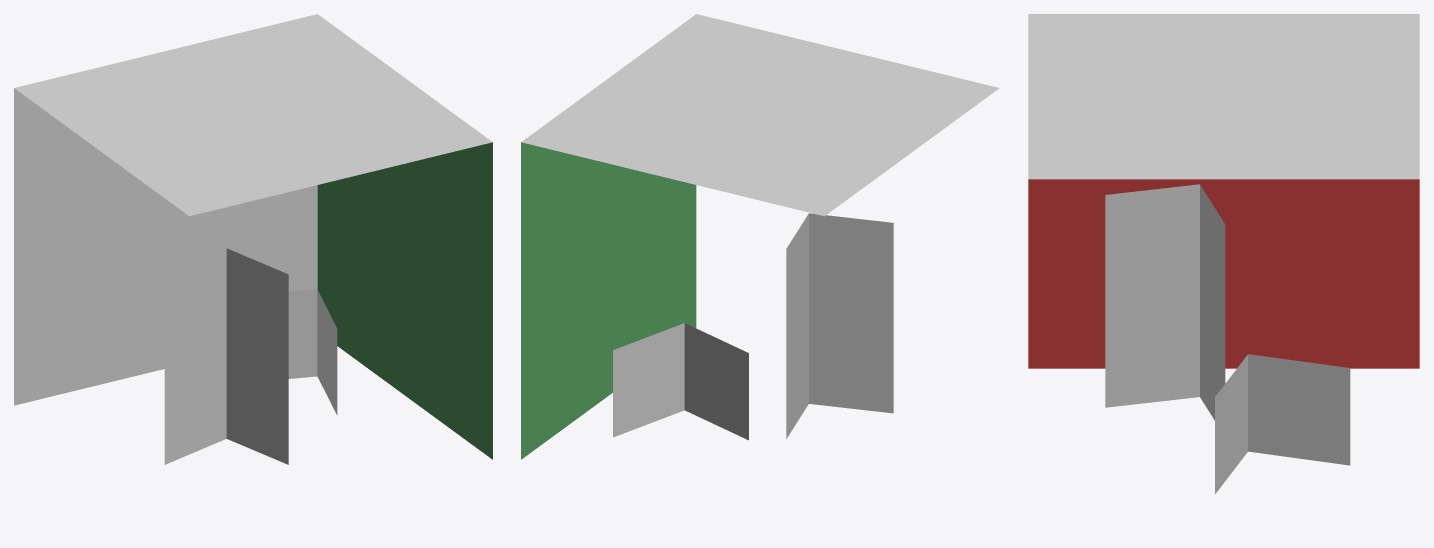
Rendered from cornell_tris.gltf.
3 views of the same model, side by side, from view 1: azimuth 30°, elevation 25°; view 2: azimuth 150°, elevation 25°; view 3: azimuth 270°, elevation 25° (orthographic). The views are drawn at different scales.
Bounding box in the file's own units: 2 × 2 × 2.
